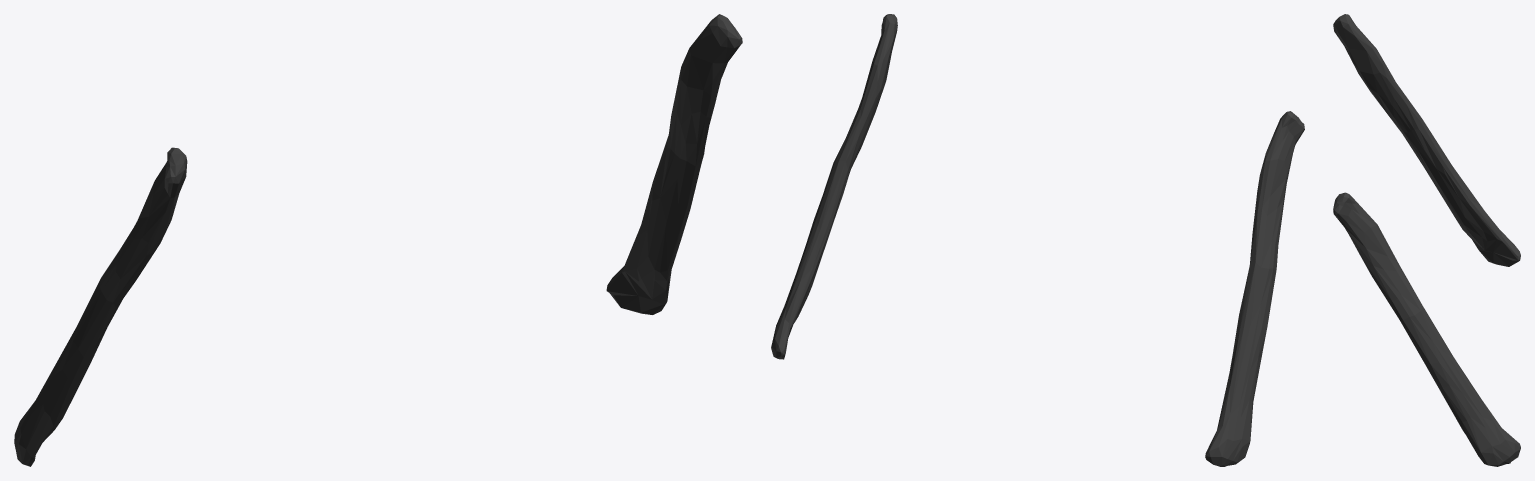
Rendered from lig_medial_patellar.glb.
3 renders of one model, left to right at view 1: azimuth 30°, elevation 25°; view 2: azimuth 150°, elevation 25°; view 3: azimuth 270°, elevation 25°, orthographic. The views are drawn at different scales.
Parts seen in each view (by area): view 1: lig_medial_patellar; view 2: lig_medial_patellar; view 3: lig_medial_patellar.
Boxes of the visible parts, x1=… form: lig_medial_patellar: x1=14, y1=14, x2=742, y2=466; lig_medial_patellar: x1=771, y1=14, x2=1304, y2=466; lig_medial_patellar: x1=1333, y1=14, x2=1520, y2=466.
Size of the model in its own units: 0.00504 by 0.00291 by 0.0019.
Materials: 1 (1 with a texture image).
